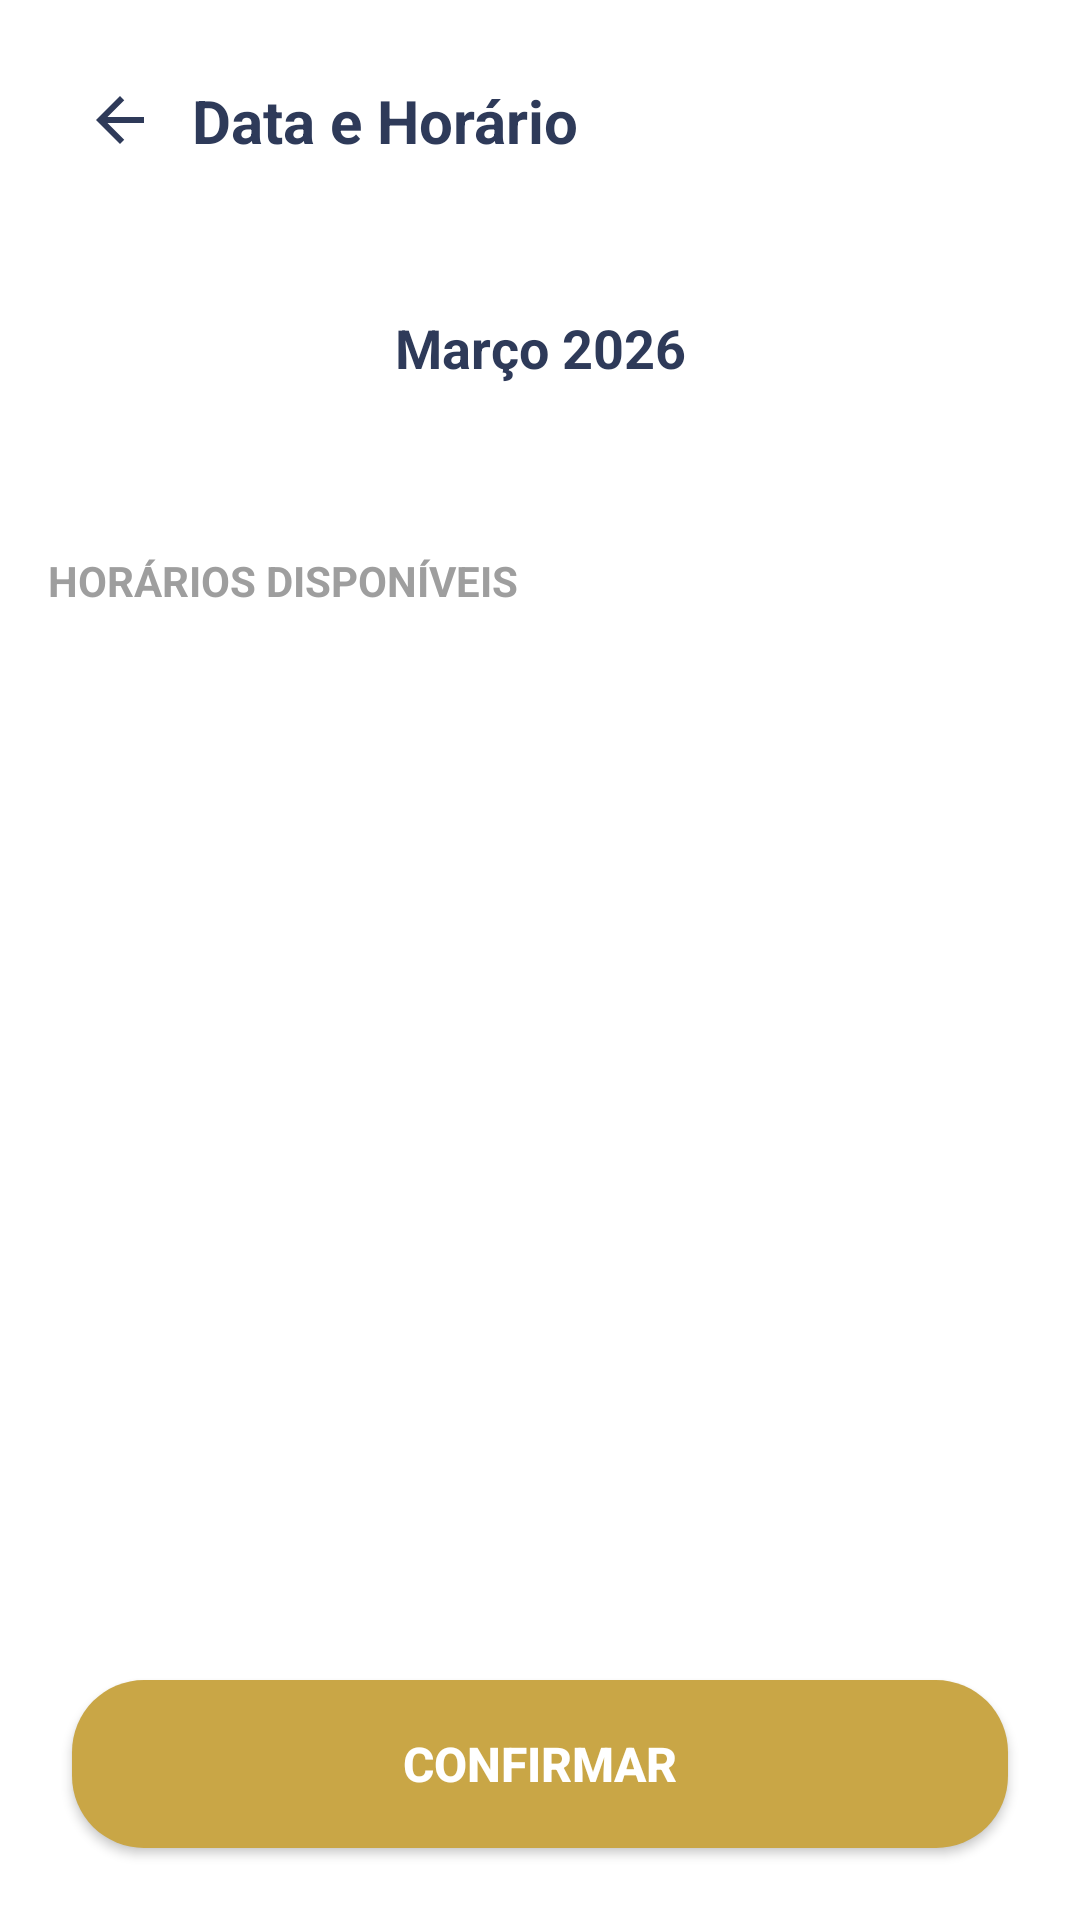

Icons on this 1080 x 1920 Android screen, each with the point to tap as (x=x, y=y):
arrow back: (x=120, y=120)
